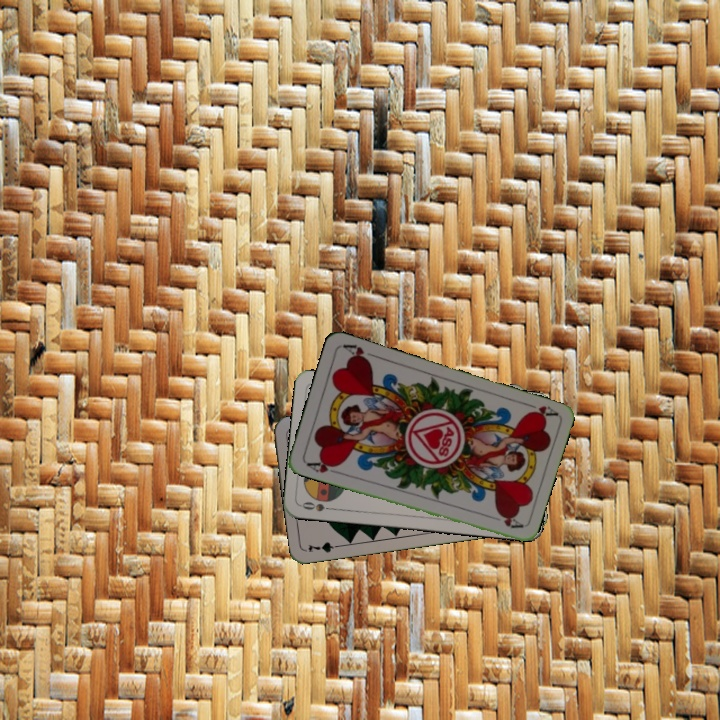G7: (304, 538, 345, 555)
HA: (519, 398, 559, 421), (302, 456, 342, 477)
SO: (298, 498, 338, 514)
